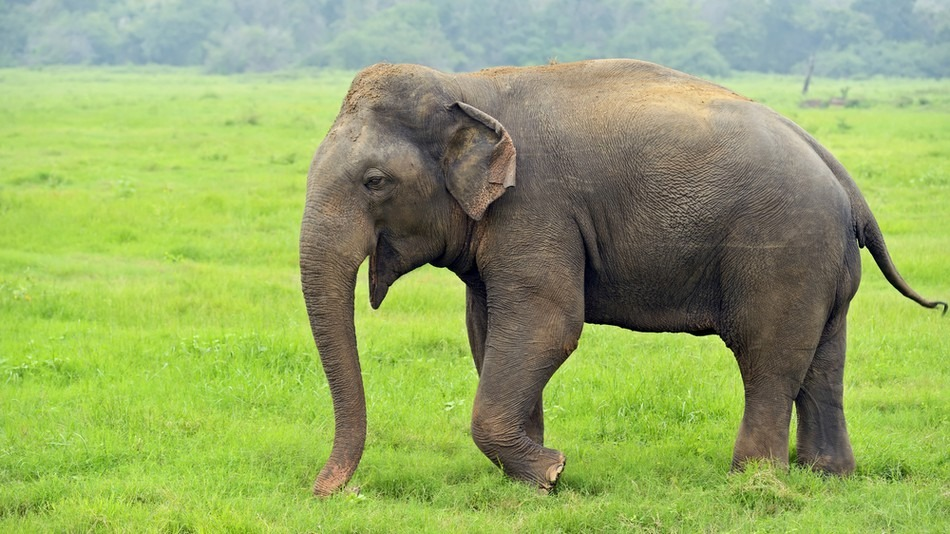elephant: (285, 51, 929, 503)
